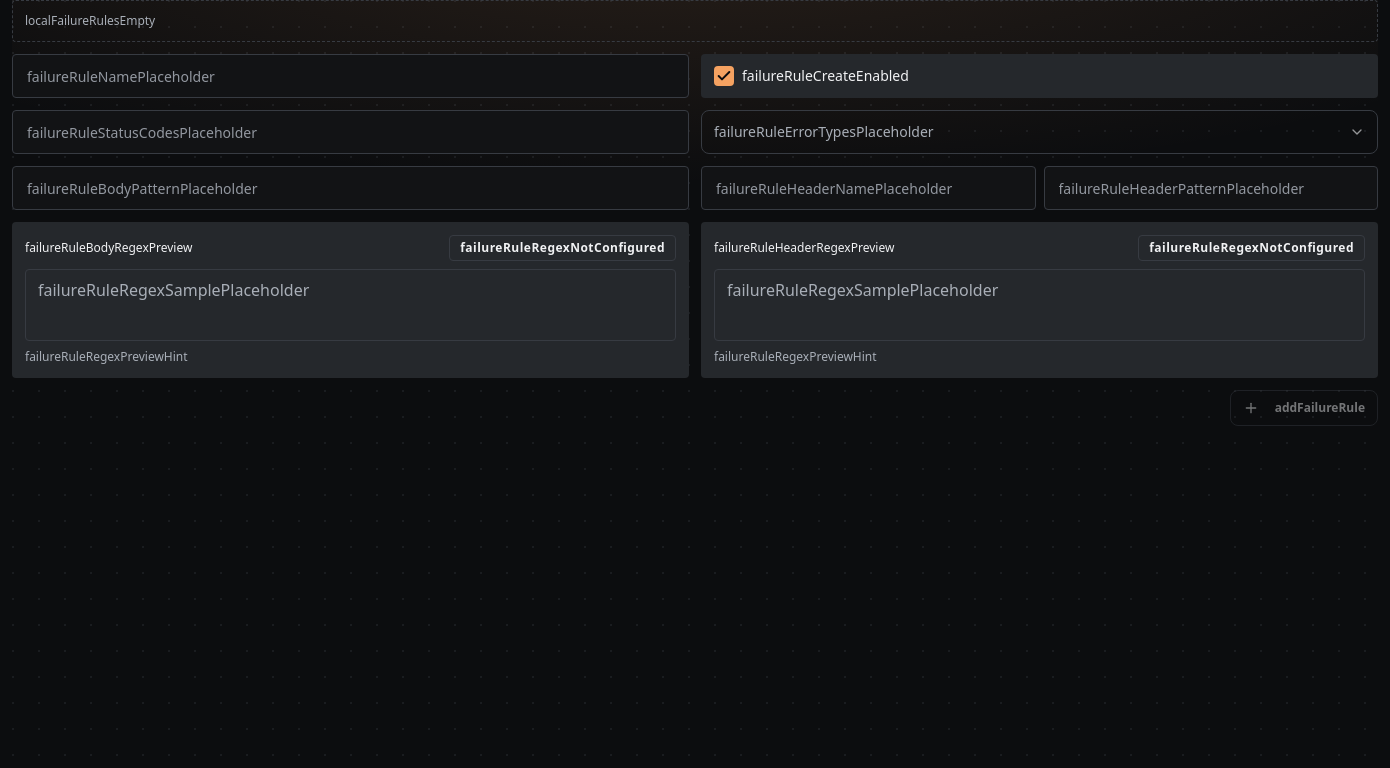
Test case: UpstreamFailureRulesEditor › shows regex preview miss when the sample does not match
The width and height of the screenshot is (1390, 768).
Type "x-error-code" into the field with placeholder "failureRuleHeaderNamePlaceholder". click: [868, 188]
box: [701,166,1036,210]
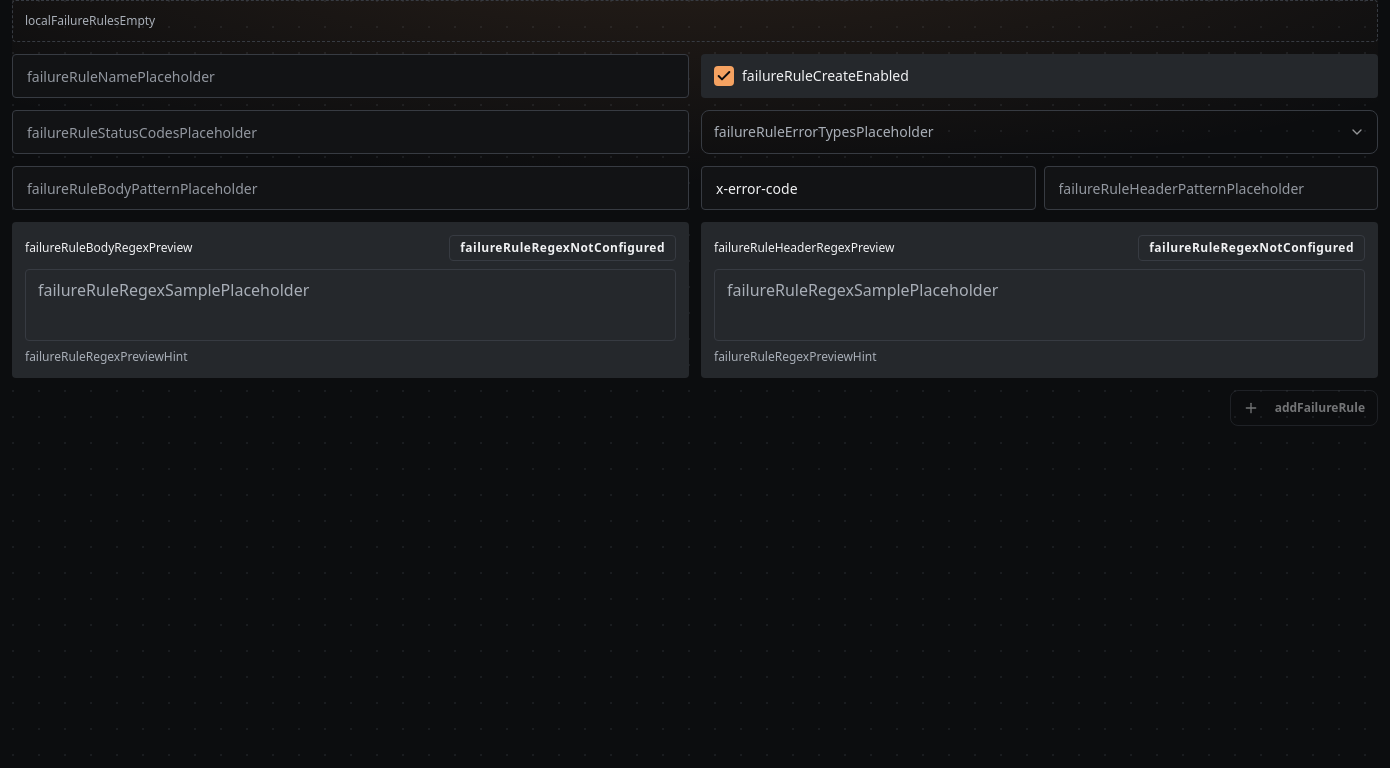
Type "rate_limit" into the field with placeholder "failureRuleHeaderPatternPlaceholder". click: [1211, 188]
box: [1044,166,1378,210]
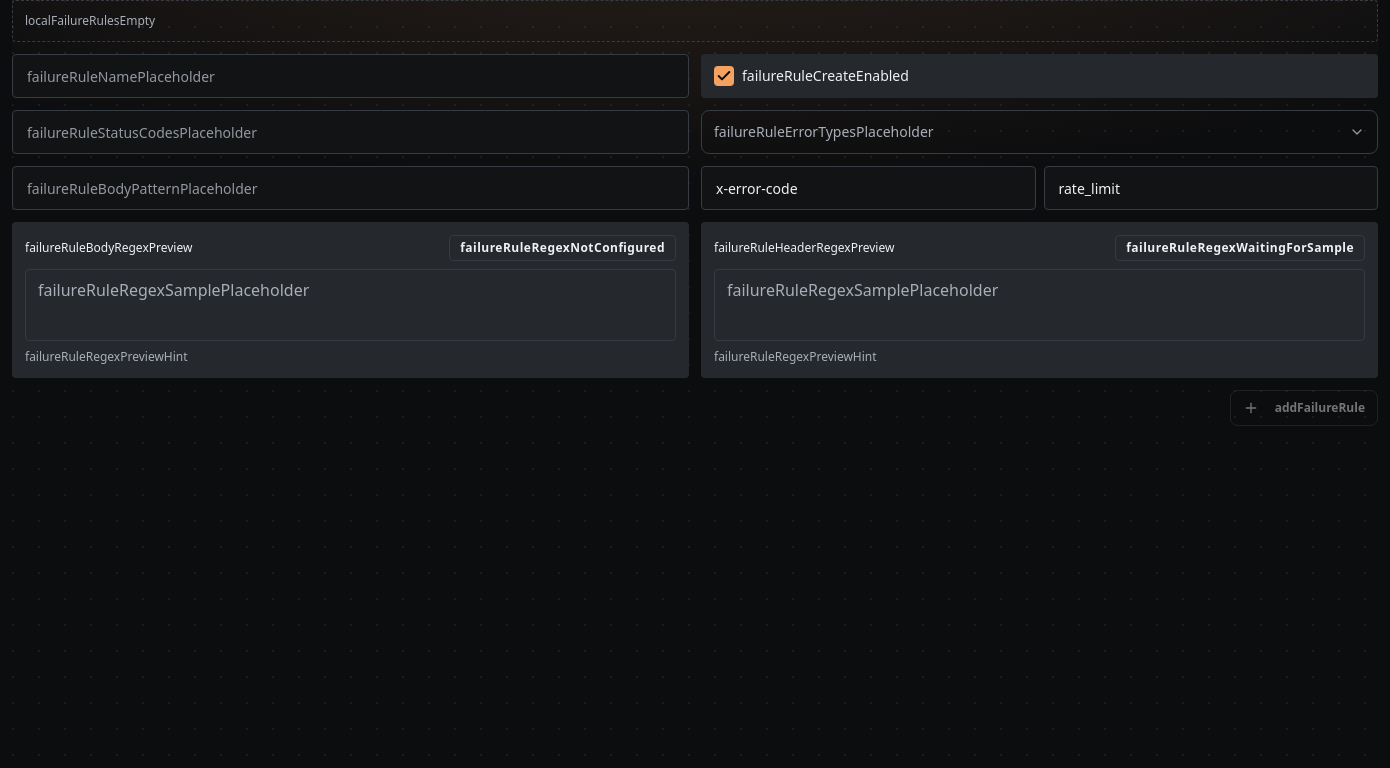
Type "quota_exceeded" into the text box with placeholder "failureRuleRegexSamplePlaceholder" below "failureRuleHeaderRegexPreview". click: [1040, 305]
box: [714,269,1365,341]
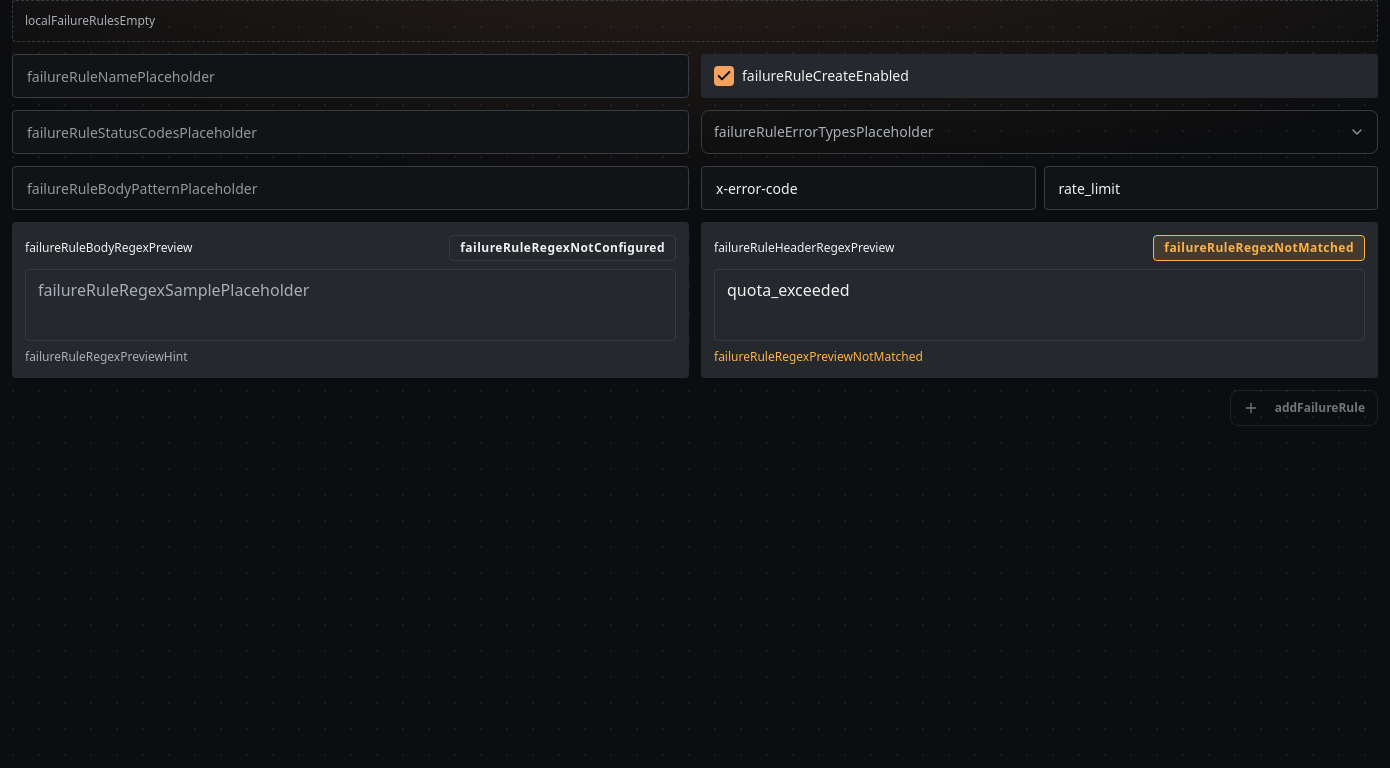
Expected: the text "failureRuleRegexNotMatched" is shown, [1153,235,1365,261]
Expected: the text "failureRuleRegexPreviewNotMatched" is shown, [714,348,923,365]
